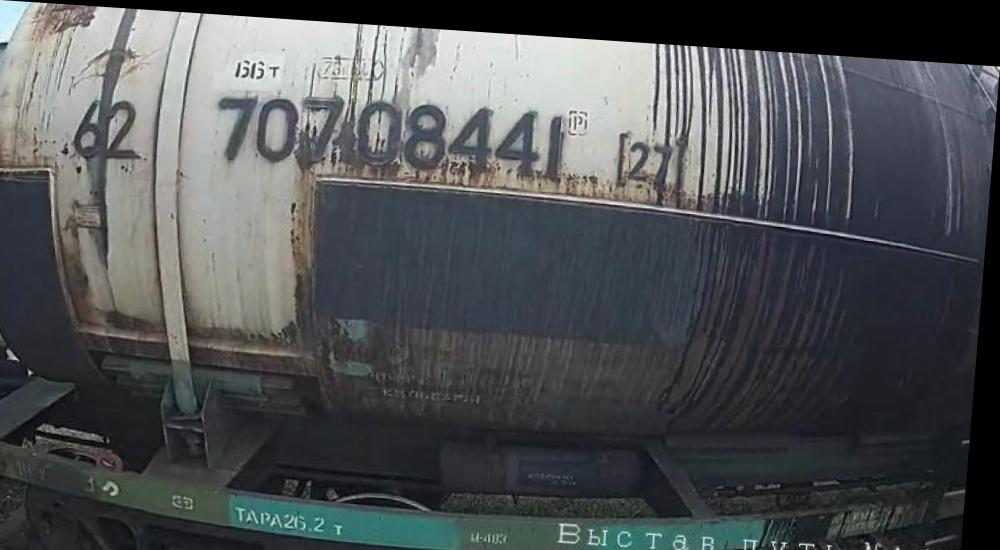Wagon-number: (213, 82, 577, 179)
